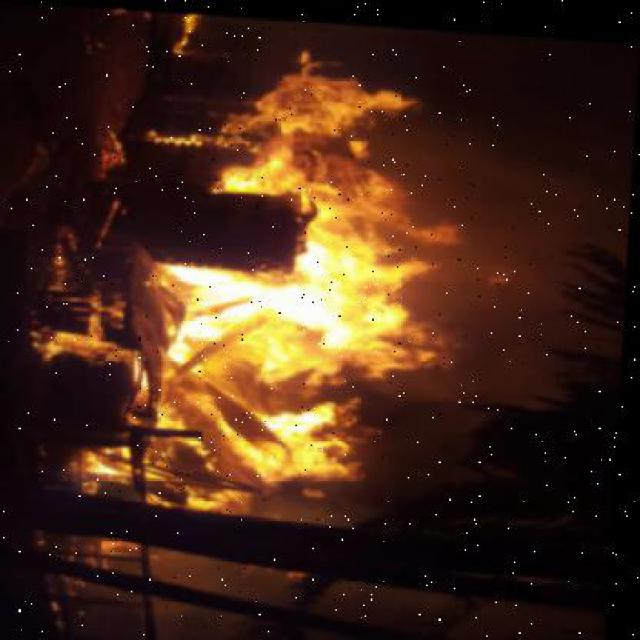fire: (171, 64, 497, 513)
